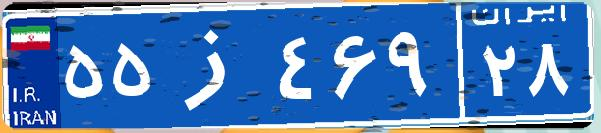2: (475, 38, 525, 113)
4: (273, 28, 330, 110)
5: (57, 26, 110, 107), (110, 28, 158, 105)
6: (330, 28, 385, 110)
8: (525, 38, 570, 115)
9: (385, 28, 445, 110)
ز: (158, 15, 273, 115)
